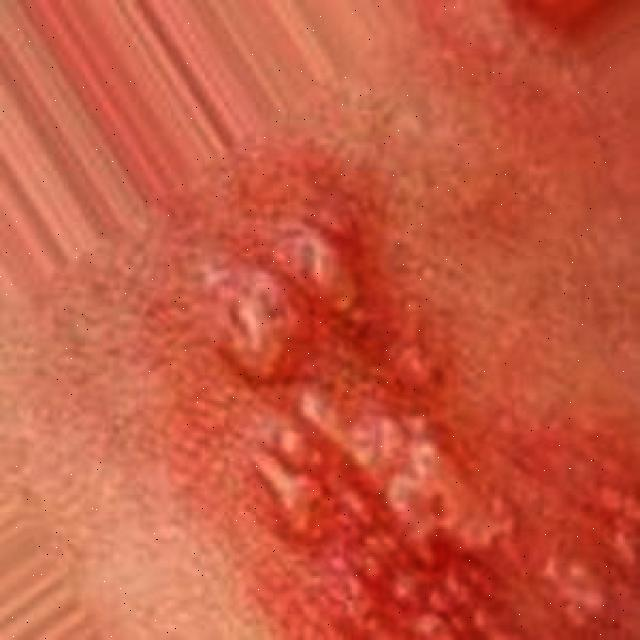Shingles: (193, 188, 640, 640)
